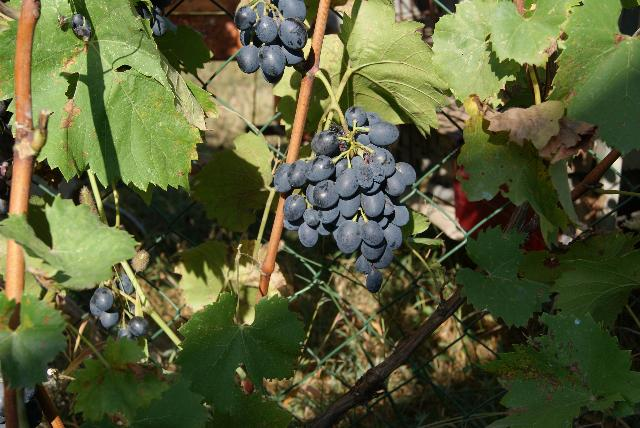grapes: (274, 106, 416, 291)
